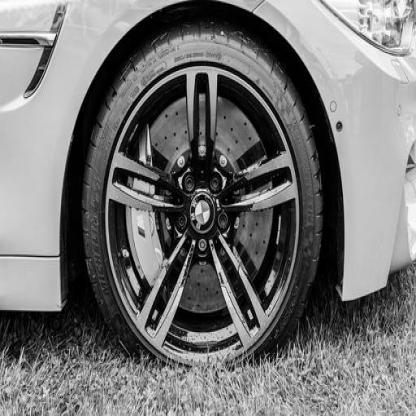Tire: (80, 18, 324, 369)
